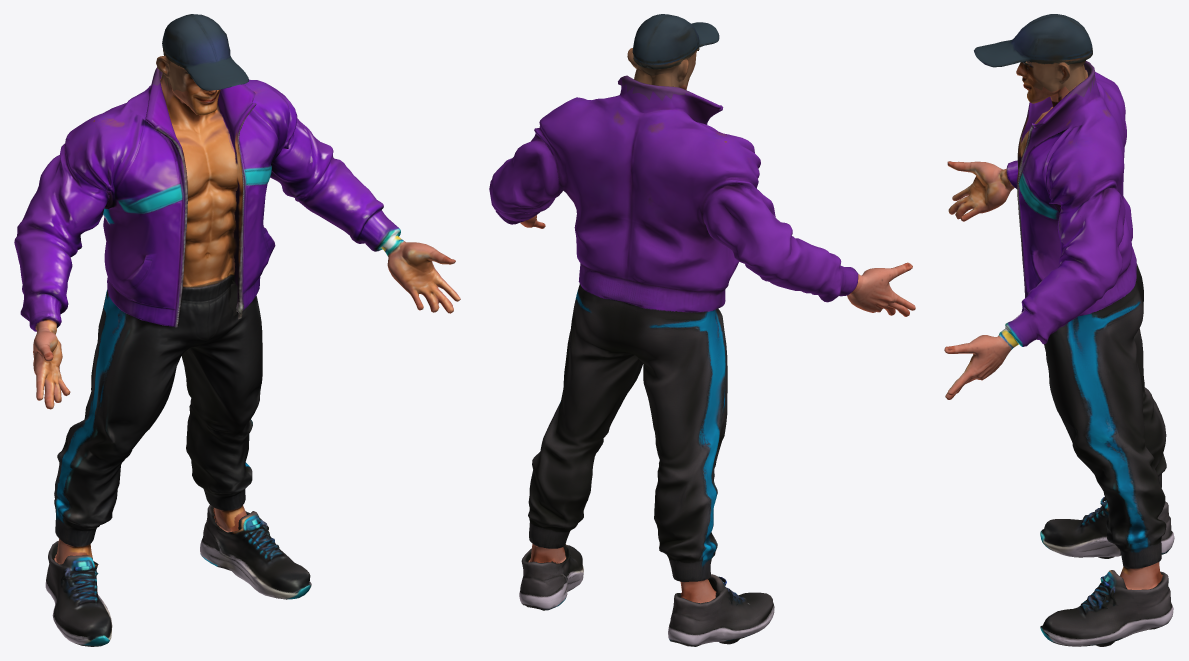
Rendered from garage-track_body.glb.
3 renders of one model, left to right at view 1: azimuth 30°, elevation 25°; view 2: azimuth 150°, elevation 25°; view 3: azimuth 270°, elevation 25°, orthographic. The views are drawn at different scales.
Visible parts, largest first — view 1: garage-track; view 2: garage-track; view 3: garage-track.
Part boxes in pixels (x1,y1,x2,y2): garage-track: [14, 14, 460, 646]; garage-track: [489, 14, 915, 646]; garage-track: [944, 14, 1174, 646].
Bounding box in the file's own units: 1.29 × 1.79 × 0.6404.
Materials: 2 (2 with a texture image).
